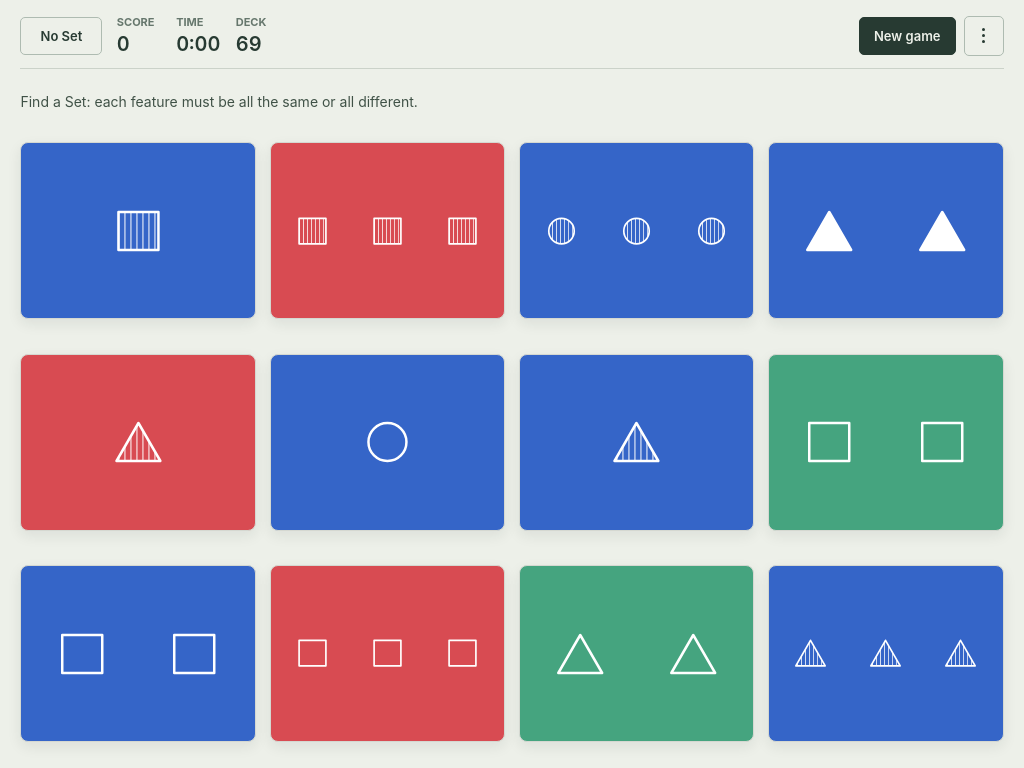
Test: toggles and remembers dark mode
This screenshot has width=1024, height=768.
expect the text with class "game-message" is shown: met, box [20,93,418,110]
expect the button "New game" is shown: met, box [859,17,956,55]
Click the button named "More options" at (984, 36), box [964,16,1004,56]
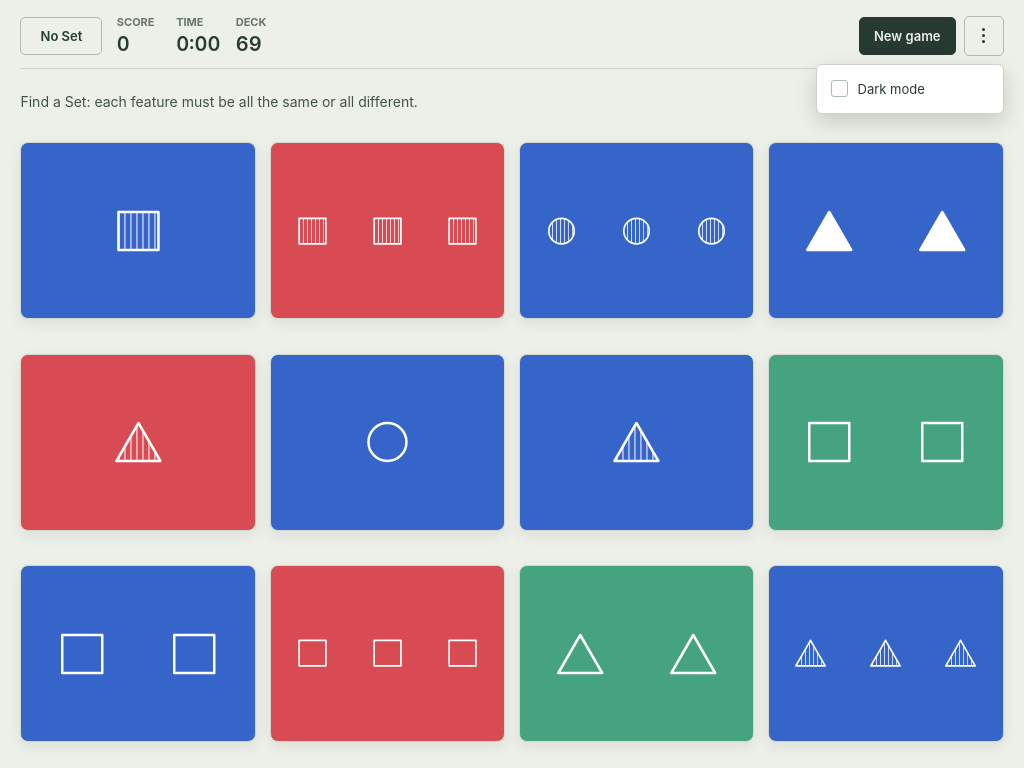
Click the menu item "Dark mode" at (910, 89), box [822,70,998,108]
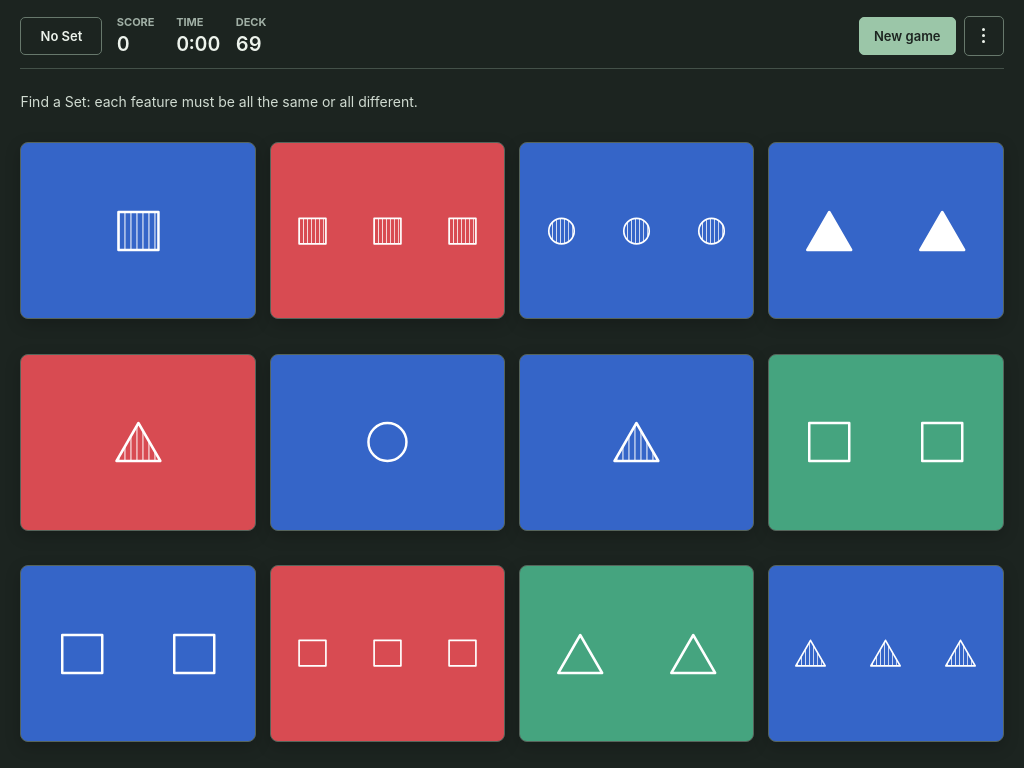
expect the menu is gone: met
